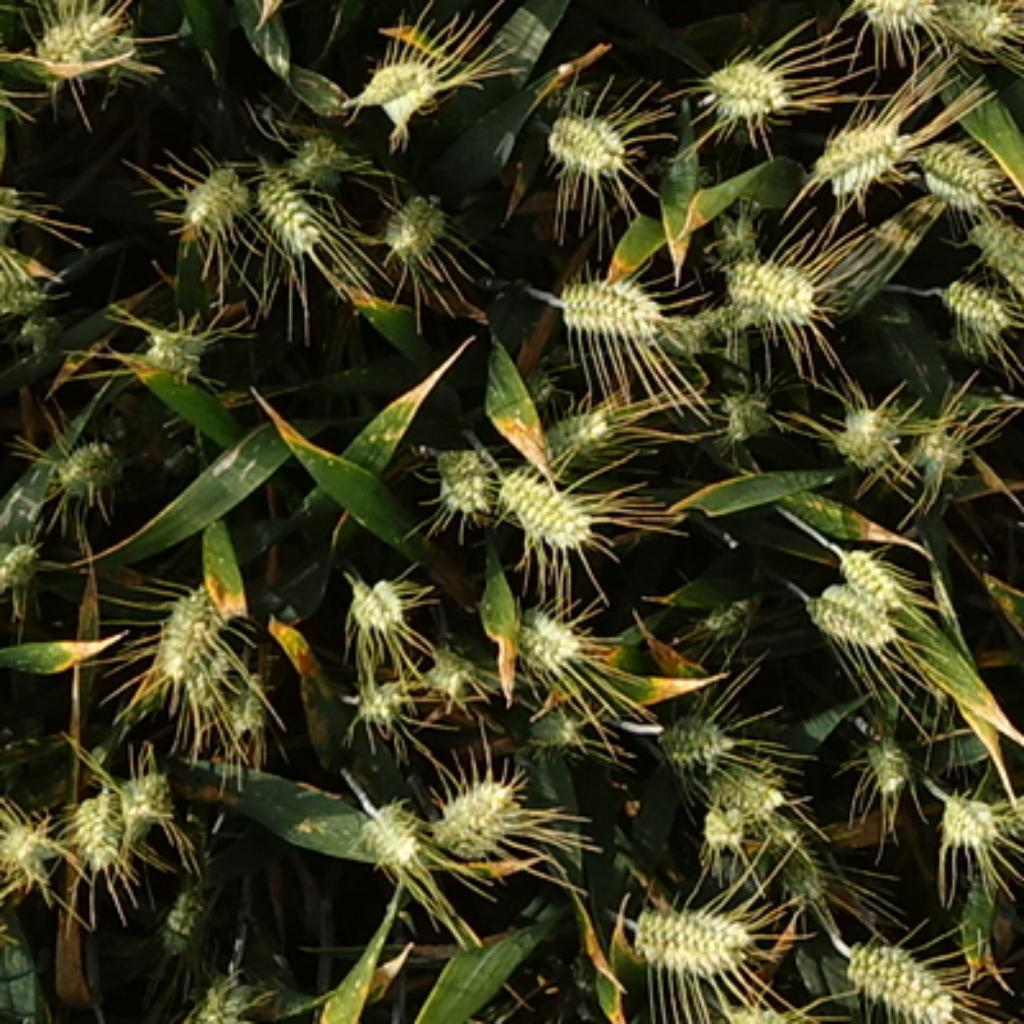0-0: (845, 930, 971, 1024), (630, 893, 763, 980), (140, 580, 232, 703), (25, 0, 143, 79), (550, 258, 665, 337), (427, 762, 524, 852), (801, 576, 911, 655), (817, 107, 911, 198), (494, 458, 593, 542), (64, 757, 128, 872), (908, 125, 1000, 204), (696, 43, 793, 117), (540, 94, 629, 174), (156, 865, 235, 954), (773, 806, 834, 921), (724, 250, 821, 322), (701, 750, 785, 832), (356, 51, 446, 125), (934, 778, 1024, 848), (259, 170, 331, 257), (540, 389, 627, 460), (506, 593, 588, 665), (176, 153, 250, 232), (51, 424, 133, 494), (102, 757, 176, 834), (376, 179, 448, 258), (427, 430, 496, 512), (174, 965, 268, 1024), (350, 788, 422, 865), (834, 542, 908, 616), (650, 698, 734, 762), (133, 309, 215, 373), (829, 391, 901, 463), (936, 266, 1011, 335), (965, 204, 1024, 286), (860, 714, 921, 791), (652, 309, 755, 353), (901, 412, 967, 478), (340, 565, 407, 629), (926, 0, 1018, 46), (286, 120, 355, 179), (2, 808, 58, 880), (714, 373, 778, 435), (350, 660, 412, 721), (696, 583, 765, 637), (422, 632, 483, 691), (696, 788, 755, 847), (225, 673, 276, 739), (522, 693, 581, 747), (711, 204, 768, 258), (2, 250, 48, 314), (842, 0, 942, 25), (2, 529, 43, 586)
